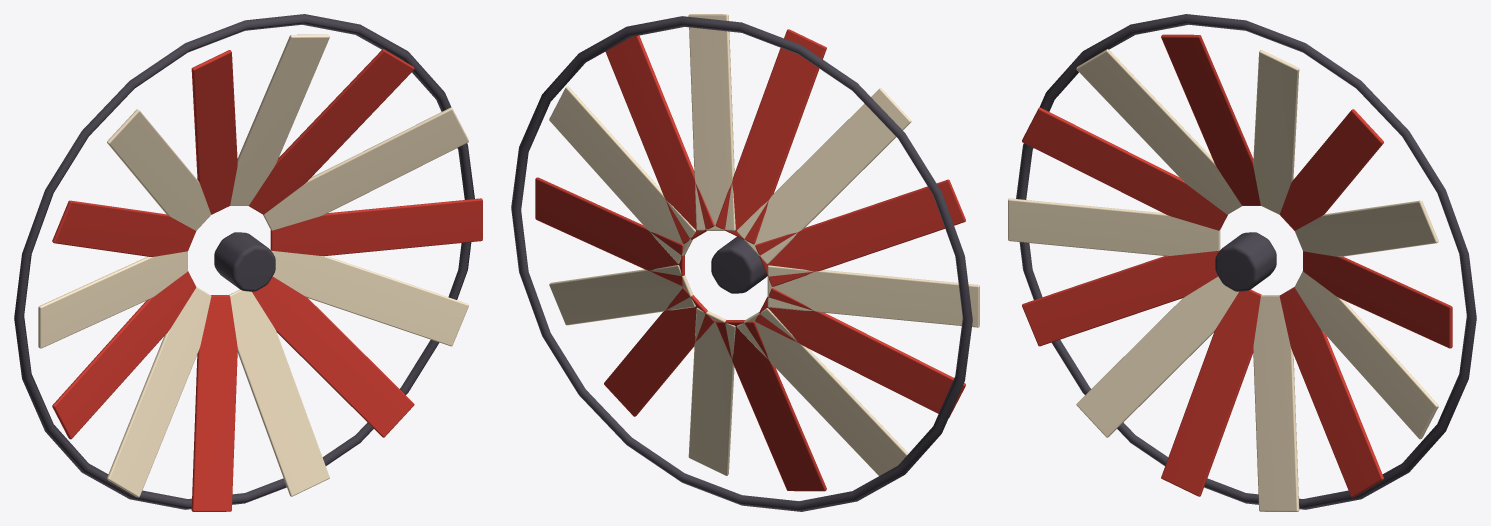
File: gulch_windmill_wheel.glb
3 renders of one model, left to right at view 1: azimuth 30°, elevation 25°; view 2: azimuth 150°, elevation 25°; view 3: azimuth 330°, elevation 25°, orthographic.
Visible parts, largest first — view 1: WindmillWheel; view 2: WindmillWheel; view 3: WindmillWheel.
Boxes of the visible parts, x1=… form: WindmillWheel: x1=14, y1=14, x2=482, y2=511; WindmillWheel: x1=511, y1=14, x2=979, y2=511; WindmillWheel: x1=1008, y1=14, x2=1476, y2=511.
Size of the model in its own units: 3.68 by 3.68 by 0.466.
